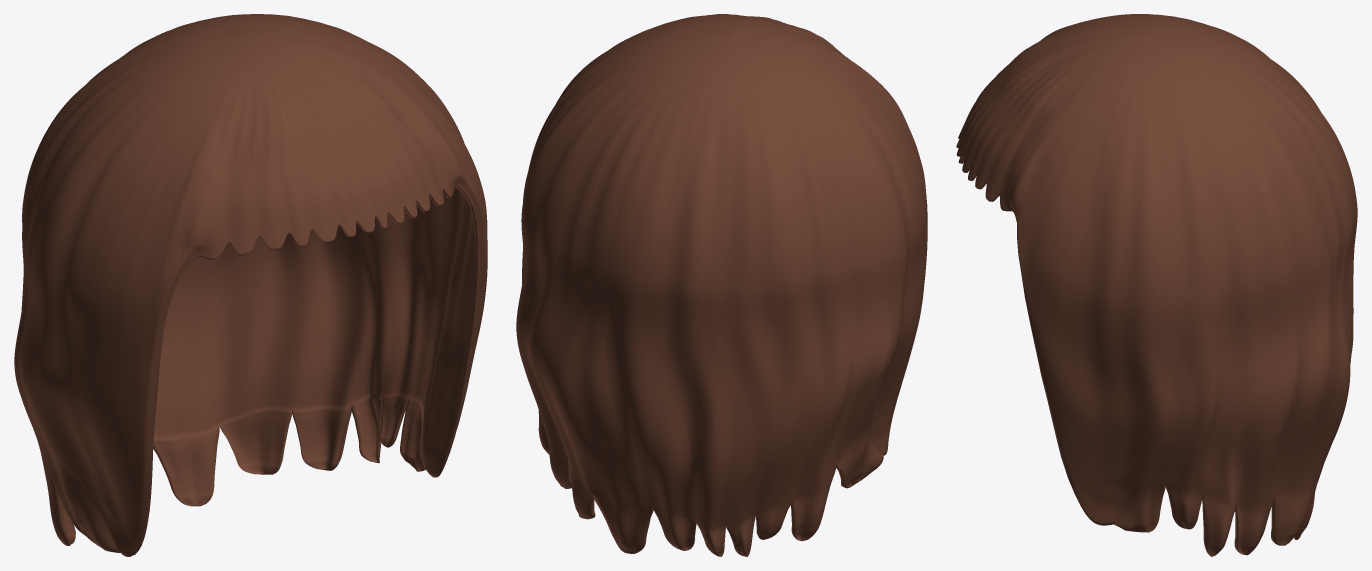
Rendered from long-none.glb.
The picture shows the model from 3 angles, left to right: view 1: azimuth 30°, elevation 25°; view 2: azimuth 150°, elevation 25°; view 3: azimuth 270°, elevation 25°; orthographic projection. The views are drawn at different scales.
Visible parts, largest first — view 1: Hair / rounded long fringe; view 2: Hair / rounded long fringe; view 3: Hair / rounded long fringe.
Part boxes in pixels (box(x1,y1,x2,y2)): Hair / rounded long fringe: box(14, 14, 487, 556); Hair / rounded long fringe: box(516, 14, 927, 556); Hair / rounded long fringe: box(956, 14, 1357, 556).
Size of the model in its own units: 0.8534 by 1.06 by 0.7801.
